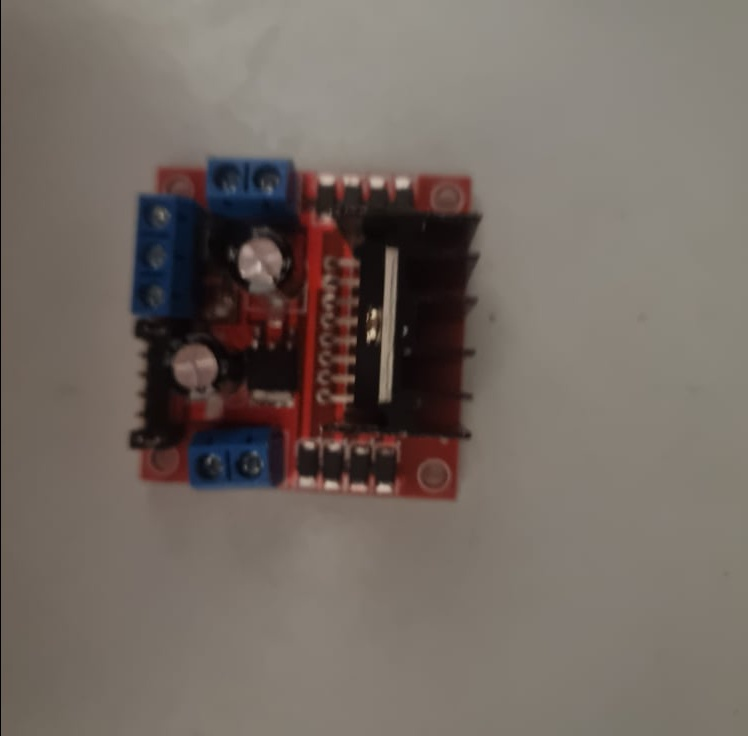MOTOR: (124, 150, 482, 502)
